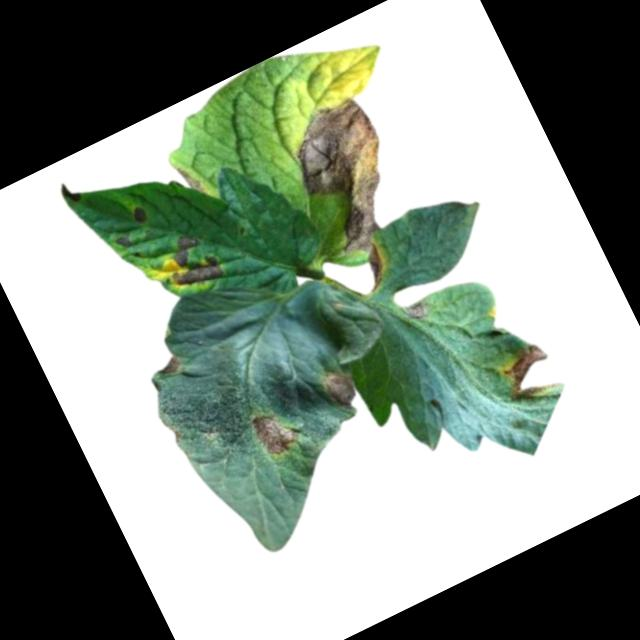Early_blight: (284, 91, 422, 260), (493, 340, 566, 411), (156, 225, 227, 298), (245, 403, 302, 462), (316, 365, 363, 414), (354, 242, 394, 291), (175, 159, 205, 200), (154, 354, 185, 381), (56, 177, 83, 208), (404, 300, 429, 323), (128, 204, 151, 228), (113, 236, 132, 254)
